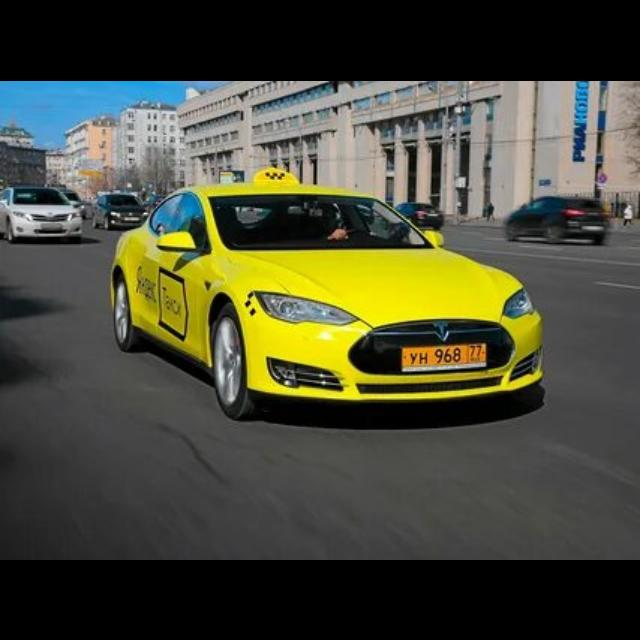taxi: (109, 165, 545, 419)
